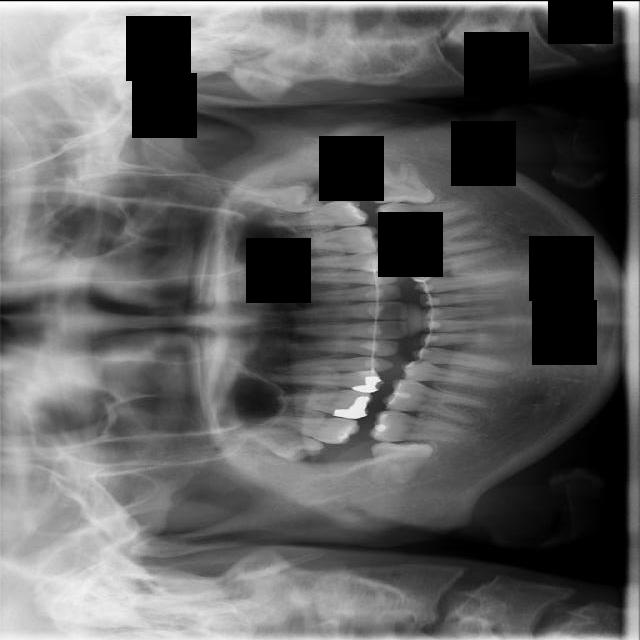3M ESPE Implant: (230, 414, 326, 469)
52: (368, 404, 417, 449), (380, 374, 432, 416), (325, 382, 373, 421), (343, 368, 384, 393)
73: (588, 36, 602, 42)
BioHorizons Implant: (266, 197, 370, 229)
BioLife Implant: (220, 183, 323, 216)
Biomet 3i Implant: (371, 158, 436, 202)
Blue Sky Bio Implant: (374, 199, 471, 233)
Caries: (247, 413, 359, 444)
Implant: (368, 409, 471, 444)
Keystone Dental Implant: (370, 441, 434, 485)
